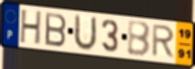3: (100, 19, 121, 54)
B: (127, 20, 152, 59), (44, 11, 68, 48)
H: (19, 9, 44, 47)
R: (150, 23, 177, 59)
U: (72, 13, 98, 52)
